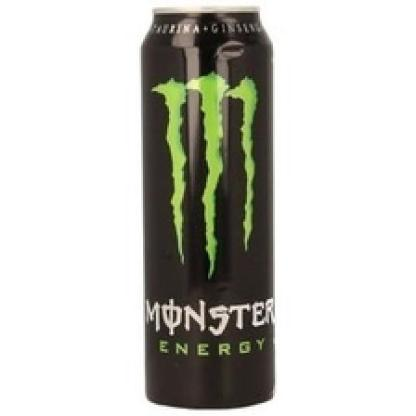Can: (141, 4, 276, 408)
